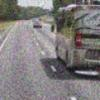buses: (51, 4, 100, 81)
